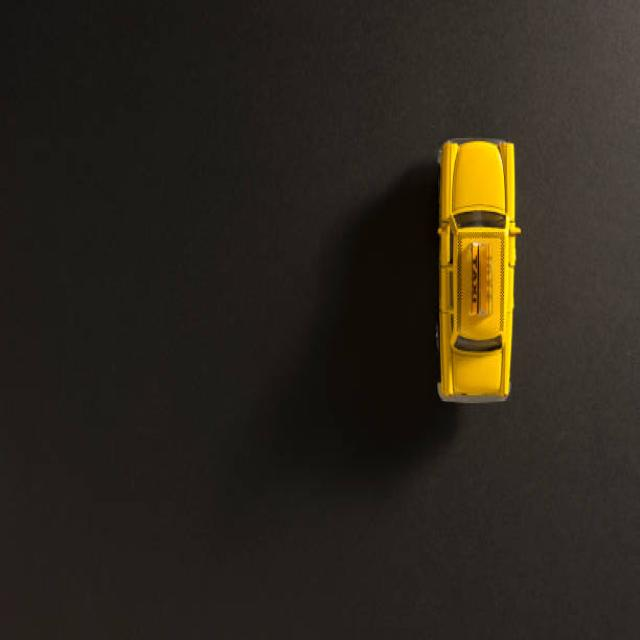Car: (435, 135, 521, 403)
